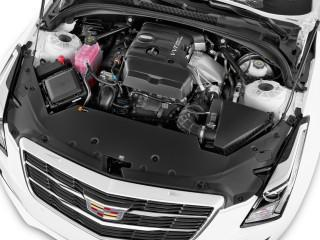cadillac: (77, 188, 134, 227)
